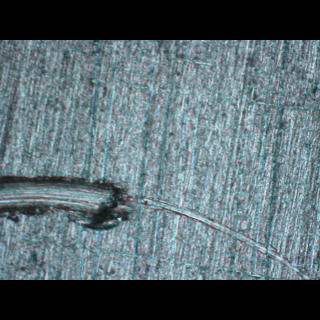d: (0, 175, 317, 279)
